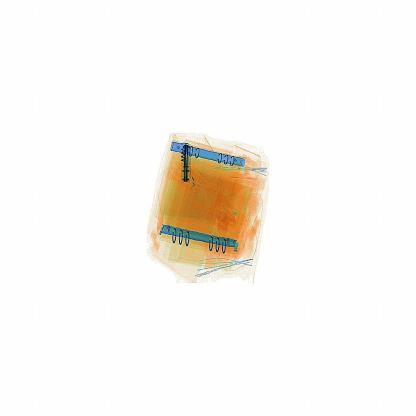scissors: (174, 137, 198, 194)
